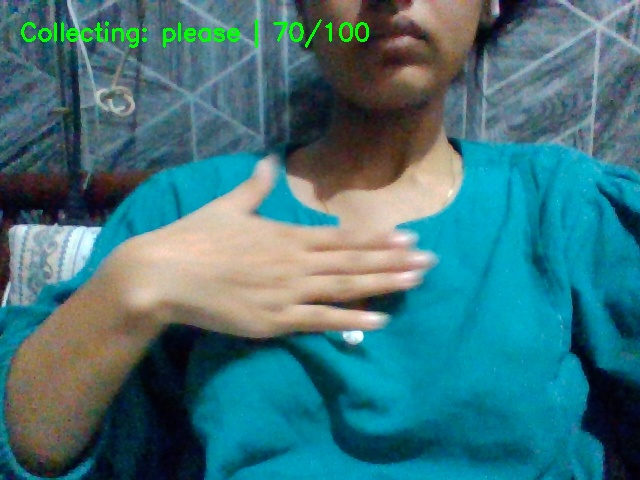please: (122, 114, 488, 396)
